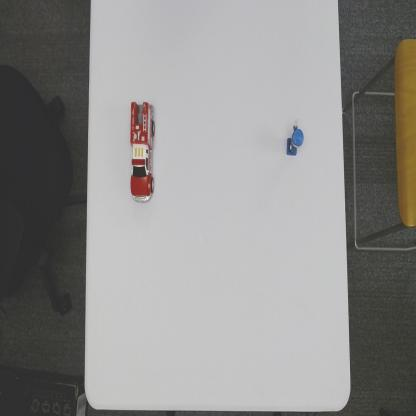Firetruck: (129, 99, 156, 205)
